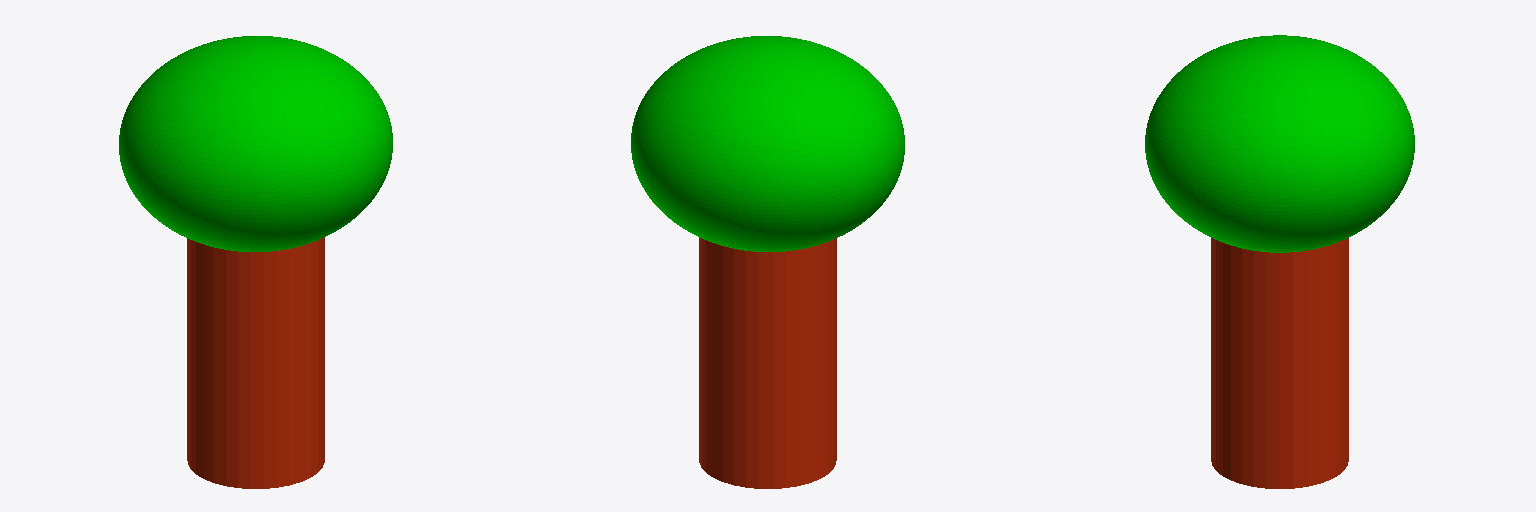
The model's file is Tree_Variation_Modded.obj.
3 renders of one model, left to right at view 1: azimuth 30°, elevation 25°; view 2: azimuth 150°, elevation 25°; view 3: azimuth 270°, elevation 25°, orthographic.
Parts seen in each view (by area): view 1: Sphere, Cylinder; view 2: Sphere, Cylinder; view 3: Sphere, Cylinder.
Boxes of the visible parts, x1=… form: Sphere: x1=119, y1=36, x2=392, y2=251; Cylinder: x1=187, y1=237, x2=324, y2=488; Sphere: x1=631, y1=36, x2=904, y2=251; Cylinder: x1=699, y1=237, x2=836, y2=488; Sphere: x1=1145, y1=35, x2=1414, y2=252; Cylinder: x1=1211, y1=238, x2=1348, y2=488.
Size of the model in its own units: 4.01 by 6.54 by 3.92.